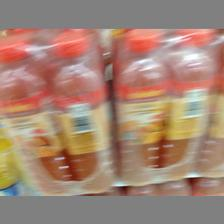Saft: (0, 36, 68, 187), (45, 32, 110, 186), (110, 29, 166, 179)
